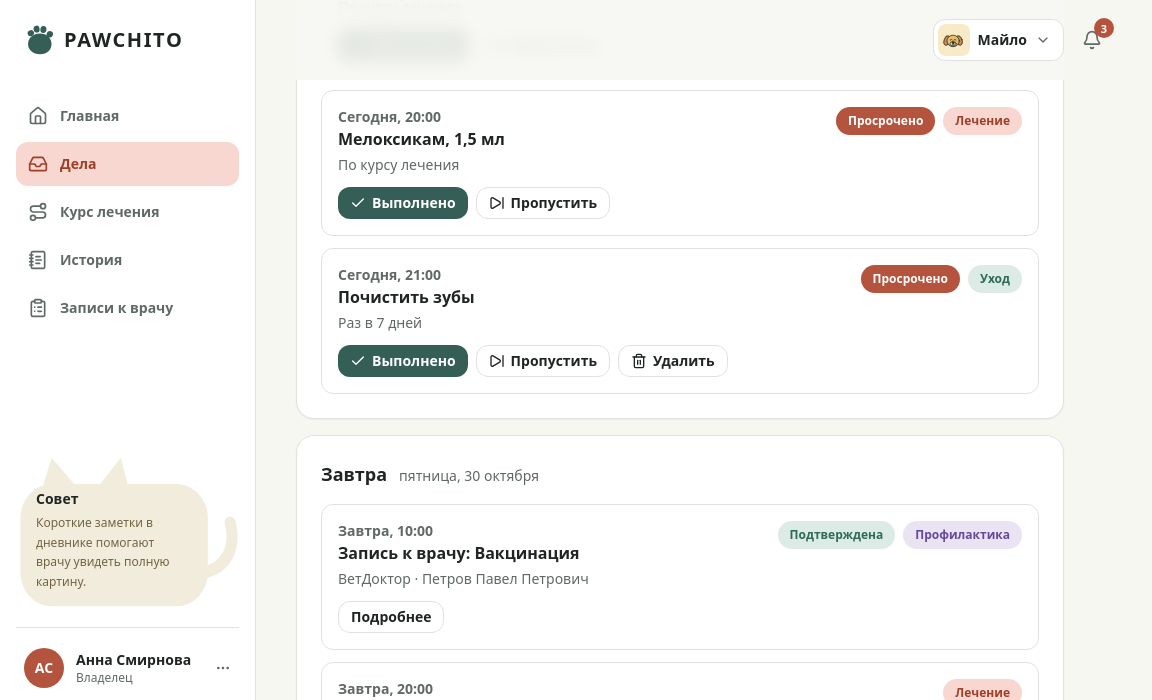
Test: TasksPage › пропуск — с подтверждением; у серии статус называет следующее дело, оно в «Позже»
This screenshot has width=1152, height=700.
(page scrolled)
Click the button named "Пропустить, Почистить зубы, сегодня, 21:00". click: [543, 360]
box: [476, 344, 610, 376]
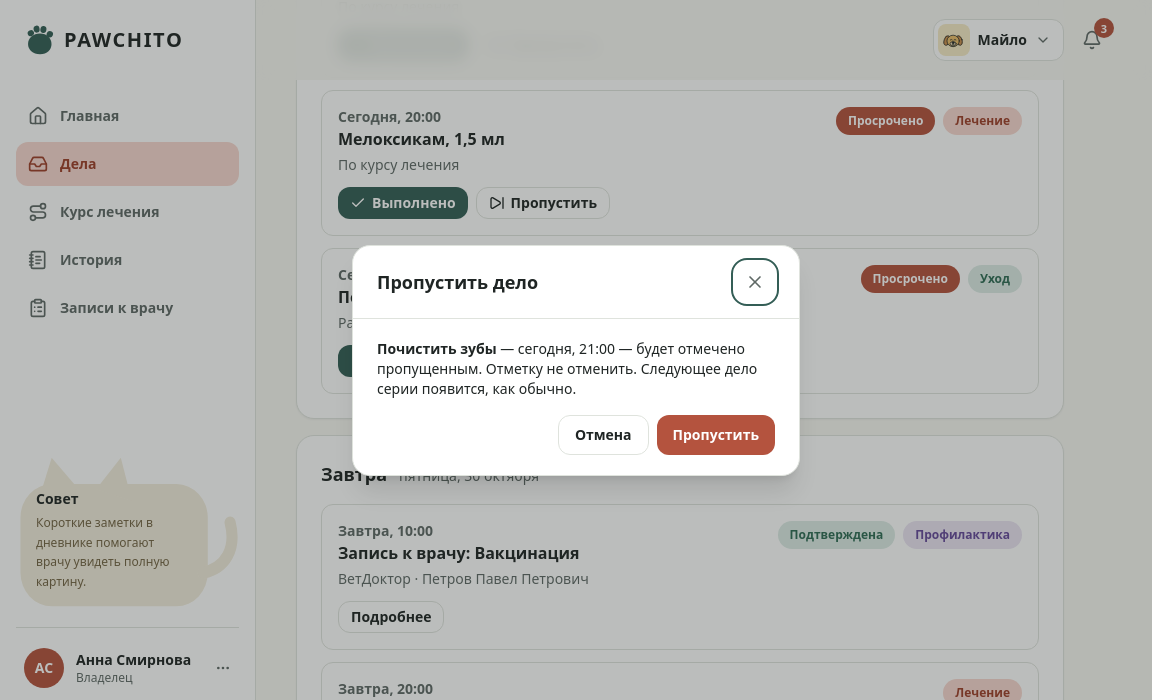
Check: the text "Следующее дело серии появится, как обычно" is shown, box [377, 358, 757, 398]
Click the button "Пропустить". click: [716, 434]
box: [657, 414, 775, 454]
(page scrolled)
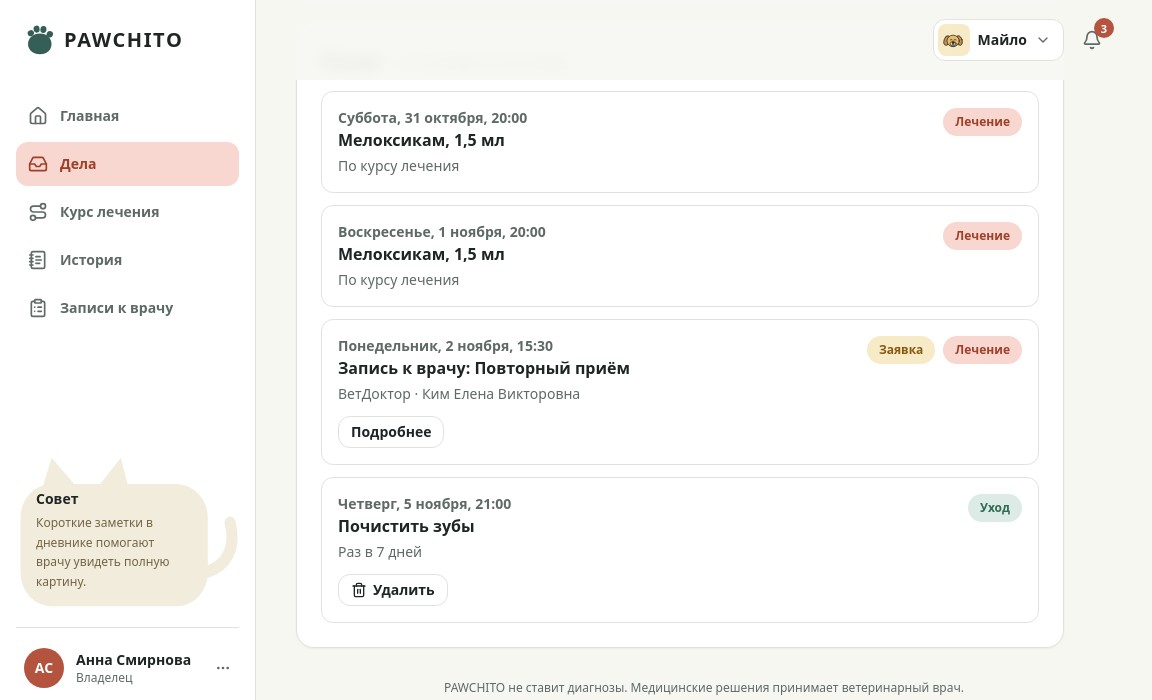
Check: the text "четверг, 5 ноября, 21:00" is shown, box [338, 494, 511, 514]
